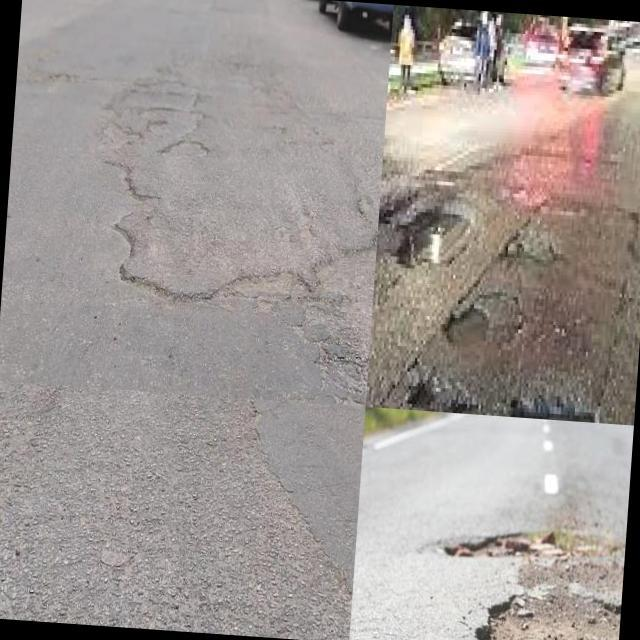Pothole: (443, 528, 624, 640)
